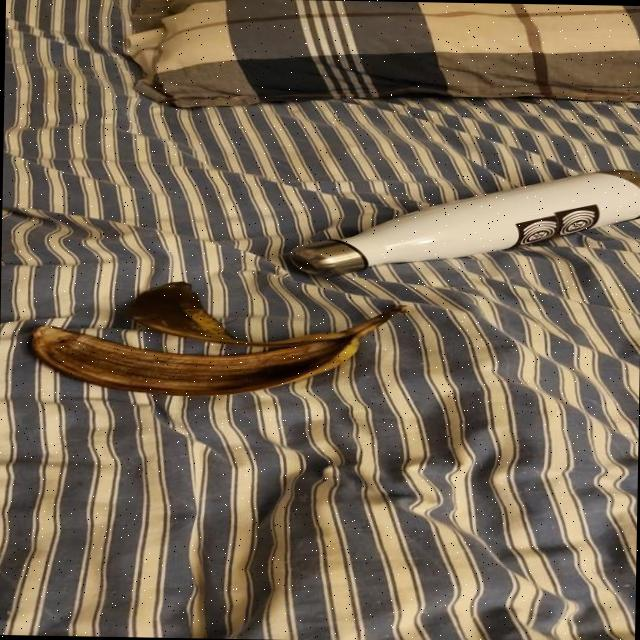banana-peel: (28, 276, 408, 399), (285, 161, 640, 282)
